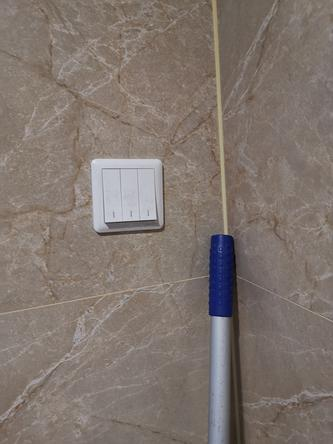switch: (116, 165, 144, 224), (98, 165, 125, 225), (134, 165, 159, 225)
